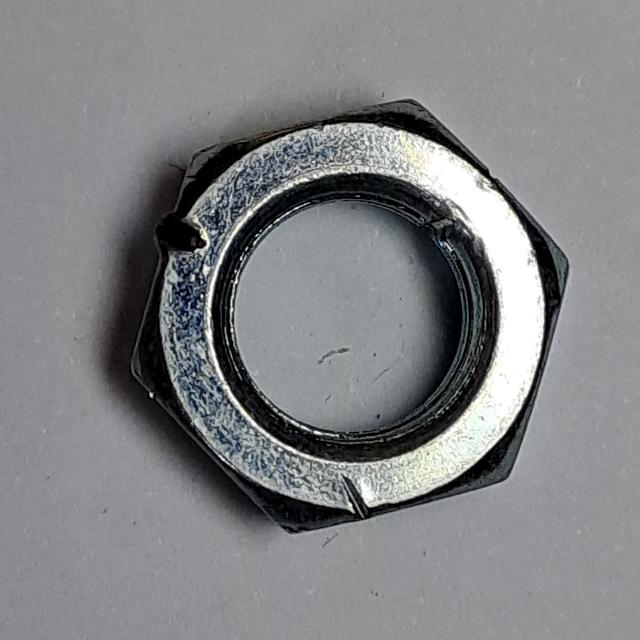Scratches: (108, 87, 589, 544)
